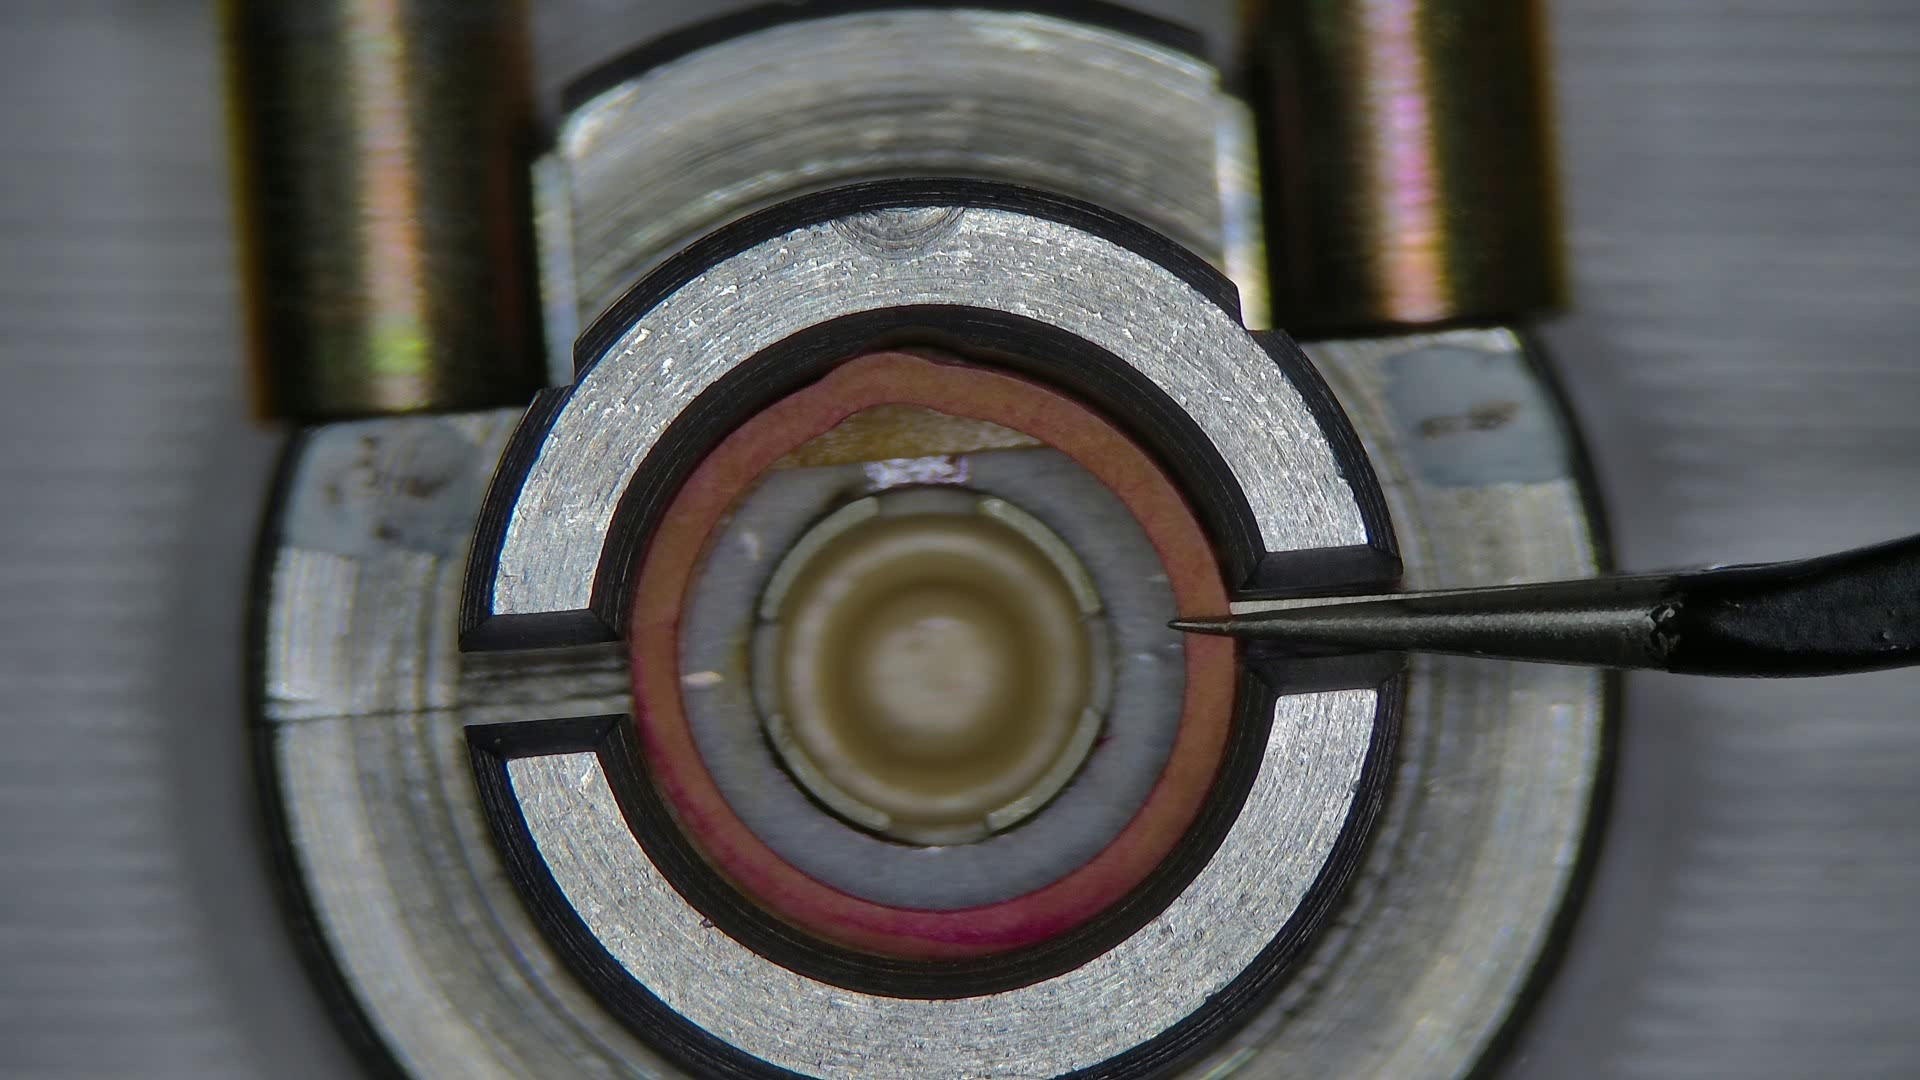GreyOring: (632, 349, 1236, 956)
YellowOring: (683, 448, 1184, 906)
redOring: (775, 404, 1039, 464)
